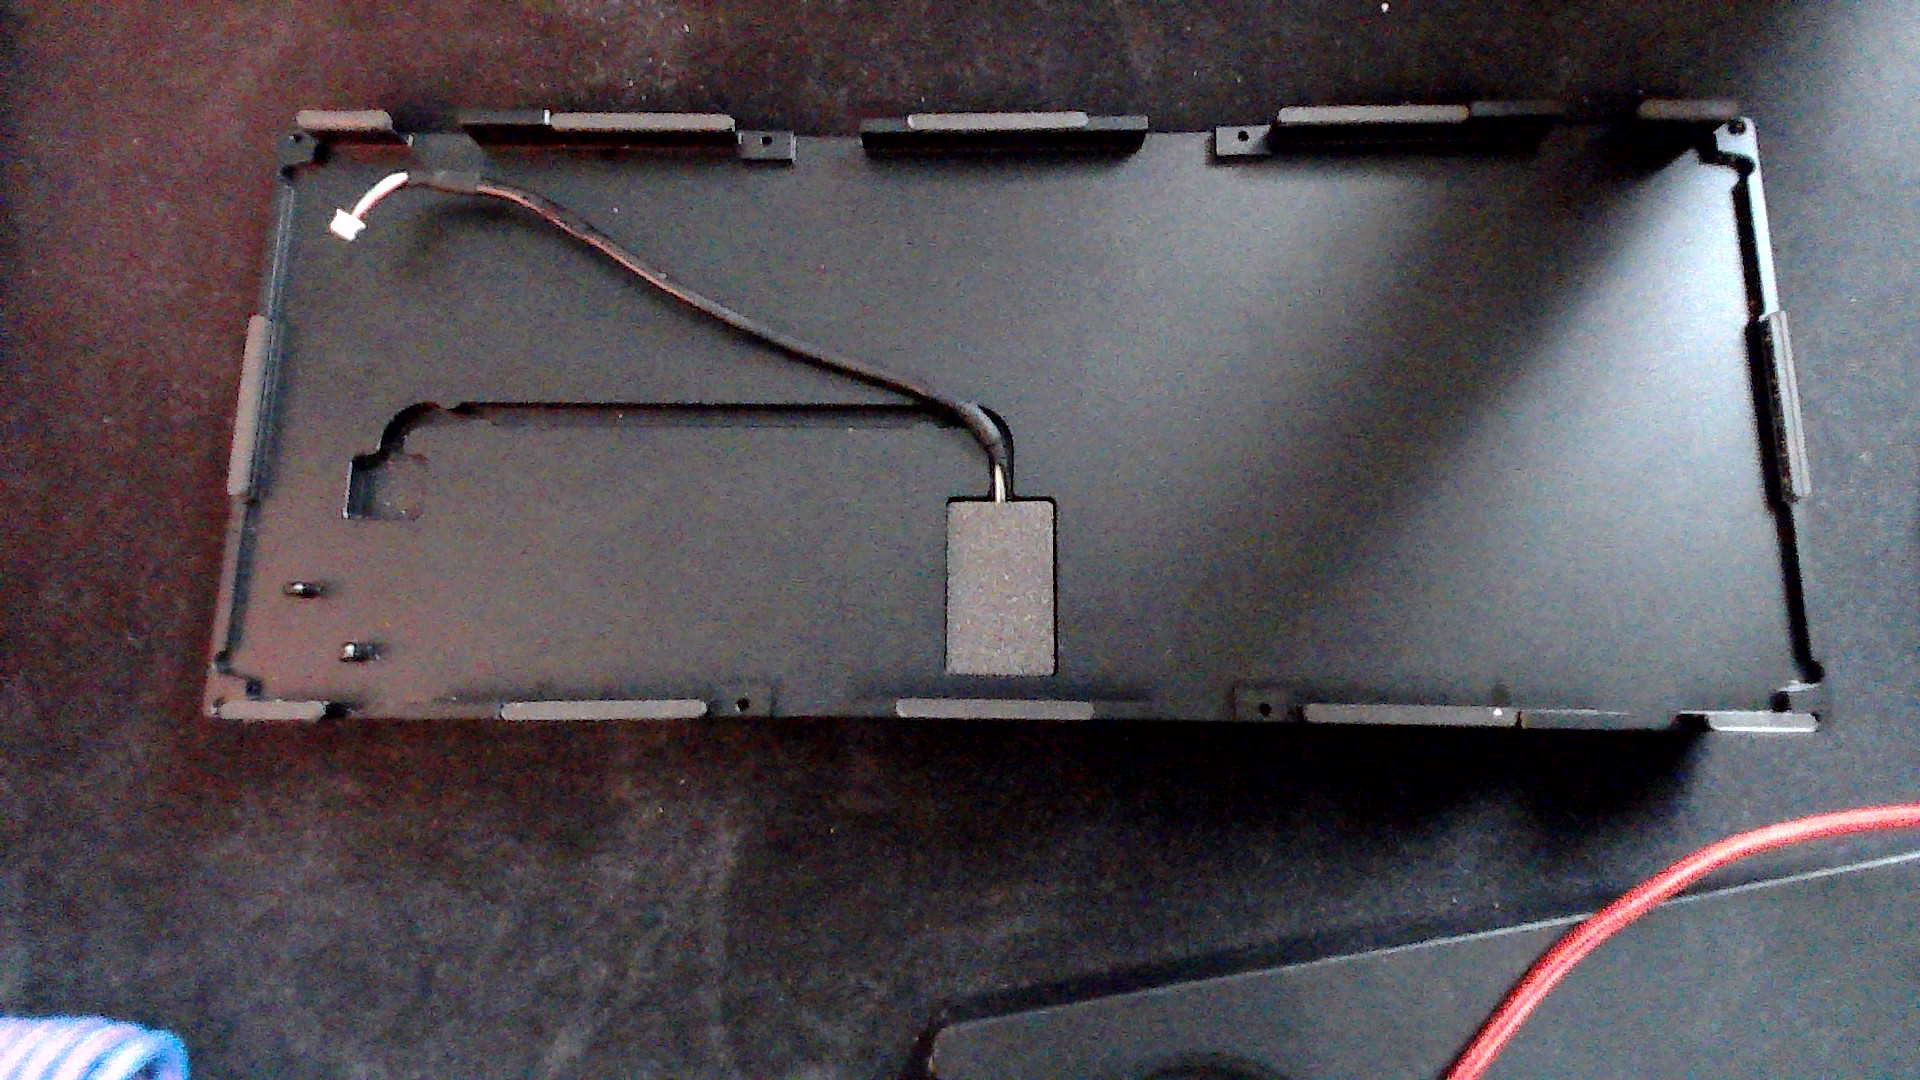case: (185, 69, 1846, 770)
